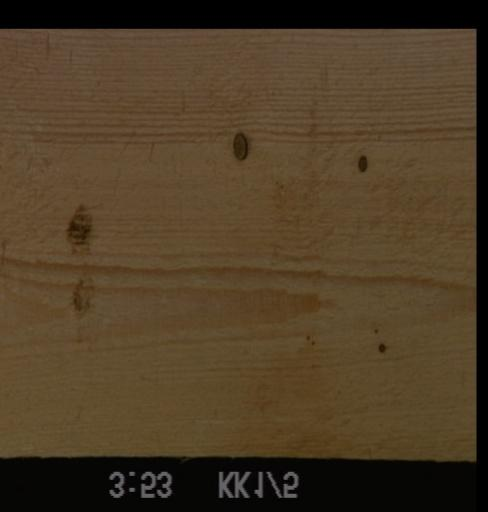dry_knot: (231, 131, 247, 162)
small_knot: (355, 154, 367, 174), (376, 341, 385, 354)
